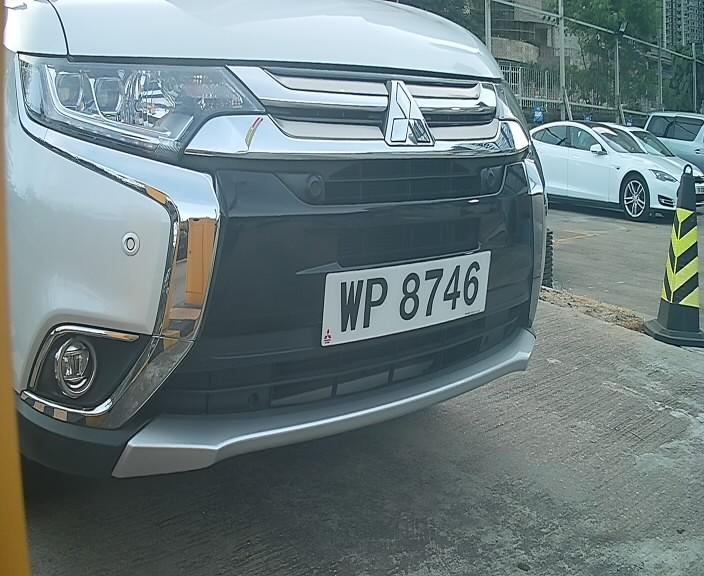privatecar: (7, 19, 617, 484)
